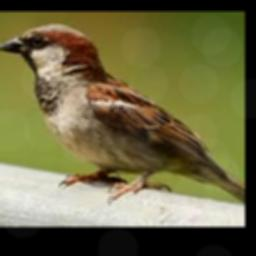Sparrow: (0, 23, 245, 204)
